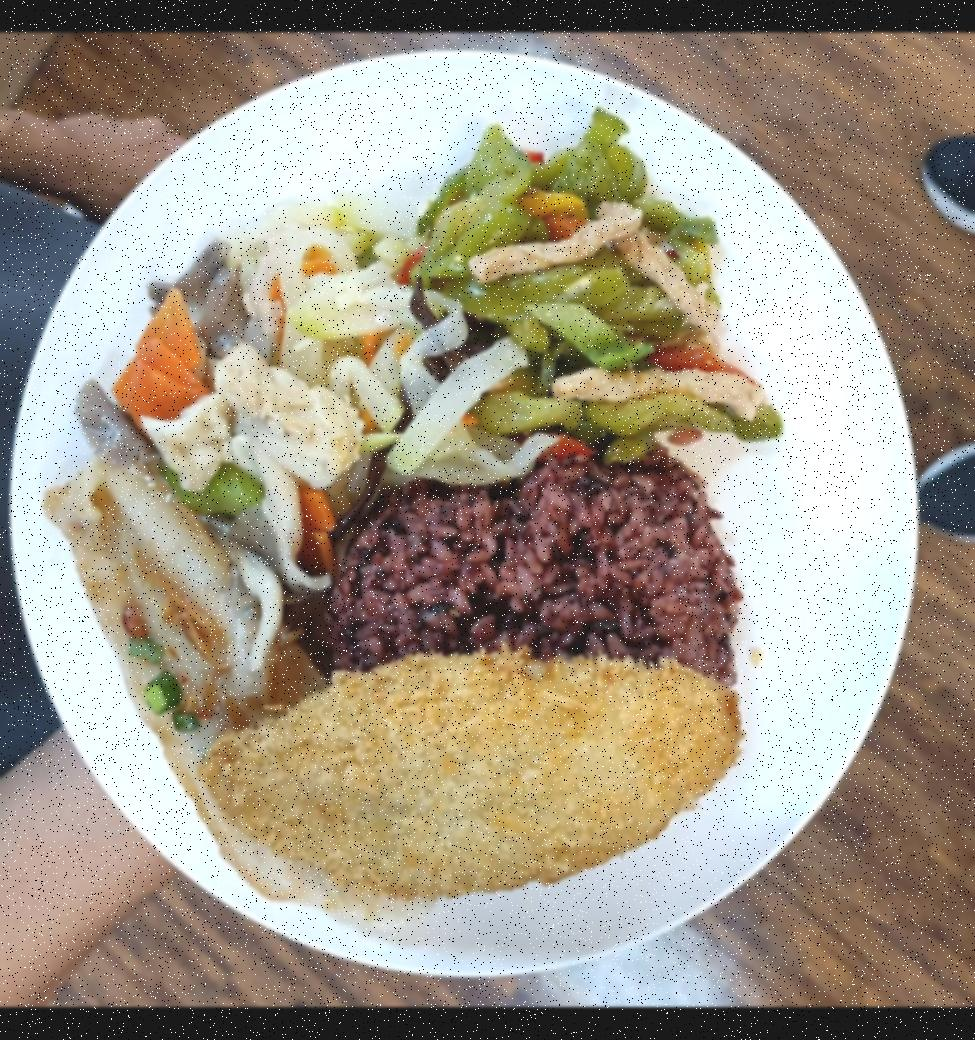fried cod steak: (198, 646, 756, 905)
plate: (0, 60, 928, 987)
purple rice: (320, 455, 742, 677)
side dish: (390, 120, 779, 469), (122, 213, 410, 573)
steamed fish fillet: (30, 458, 426, 943)
